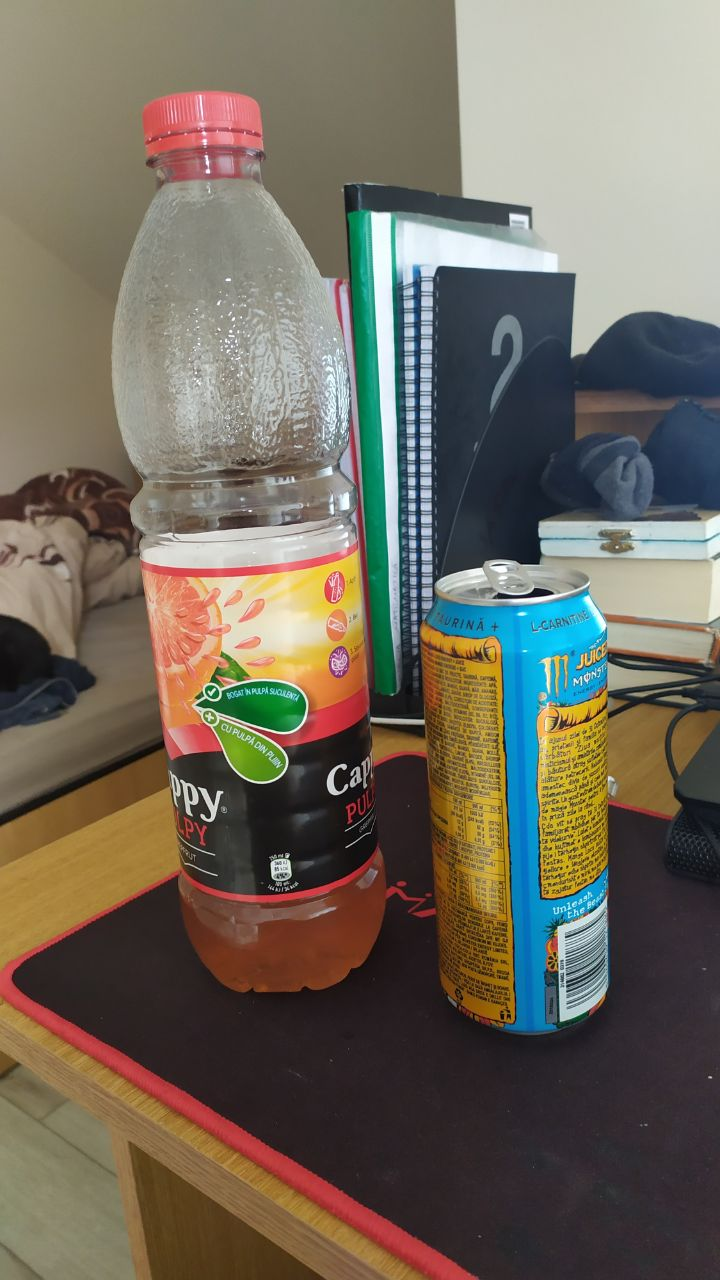Can: (419, 556, 612, 1037)
